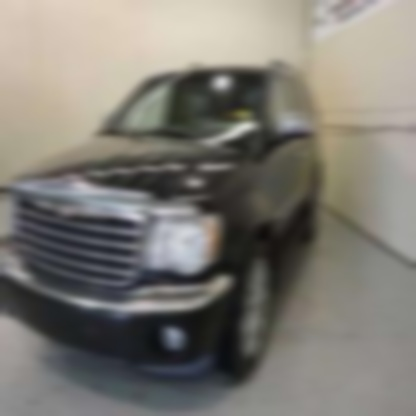Vehicle: (1, 61, 324, 387)
